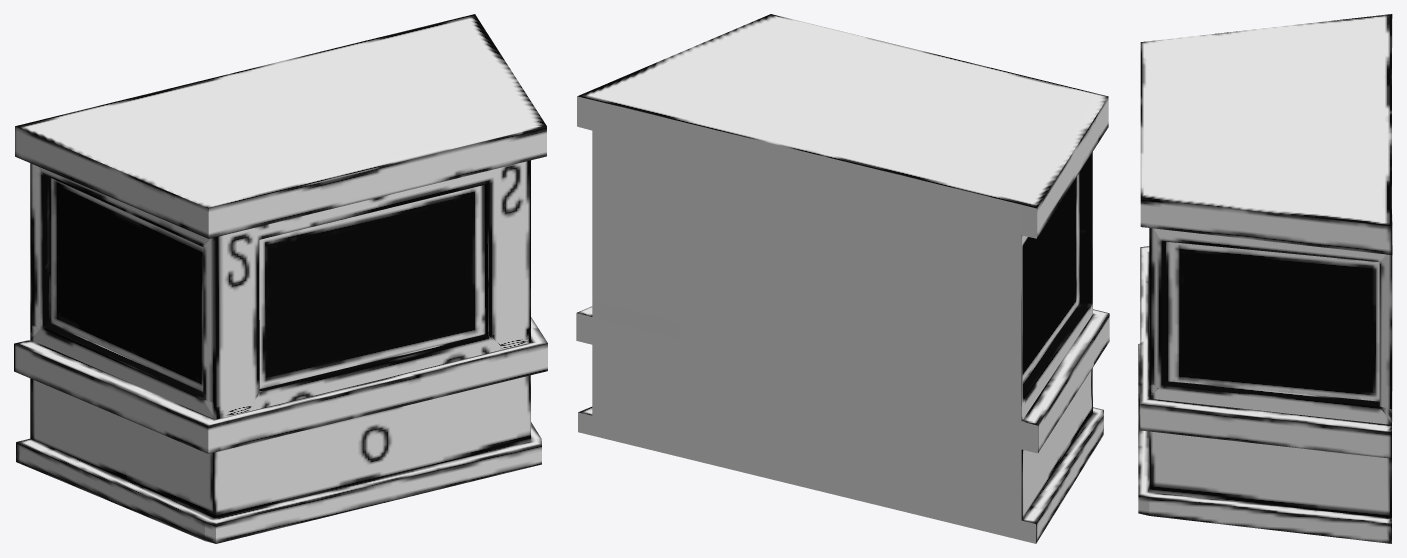
File: BayWindow01_s.glb
The picture shows the model from 3 angles, left to right: view 1: azimuth 30°, elevation 25°; view 2: azimuth 150°, elevation 25°; view 3: azimuth 270°, elevation 25°; orthographic projection. The views are drawn at different scales.
Parts seen in each view (by area): view 1: BayWindow_s2; view 2: BayWindow_s2; view 3: BayWindow_s2.
Boxes of the visible parts, left/top/right/bottom form: BayWindow_s2: left=14, top=14, right=547, bottom=543; BayWindow_s2: left=576, top=14, right=1109, bottom=543; BayWindow_s2: left=1138, top=14, right=1392, bottom=543.
Bounding box in the file's own units: 8.61 × 5.98 × 4.33.
Materials: 1 (1 with a texture image).
